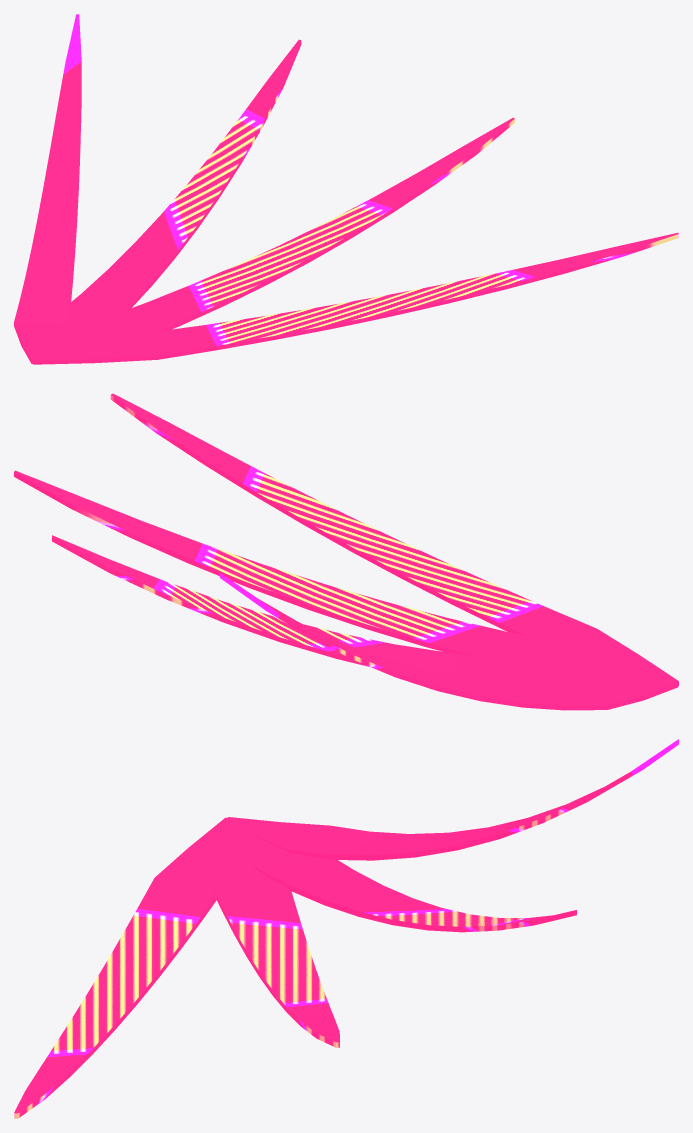
File: WING_R.glb
3 views of the same model, one above another, from view 1: azimuth 30°, elevation 25°; view 2: azimuth 150°, elevation 25°; view 3: azimuth 270°, elevation 25° (orthographic). The views are drawn at different scales.
Visible parts, largest first — view 1: WING_R_03; view 2: WING_R_03; view 3: WING_R_03.
Boxes of the visible parts, <box> form: WING_R_03: <box>14,14,678,364</box>; WING_R_03: <box>14,393,678,710</box>; WING_R_03: <box>14,739,678,1118</box>.
Bounding box in the file's own units: 4.28 × 1.23 × 3.35.
Materials: 1 (1 with a texture image).
